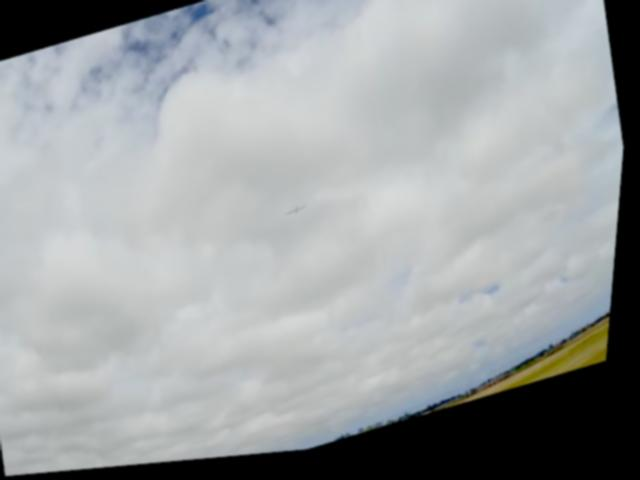uav: (280, 196, 318, 234)
